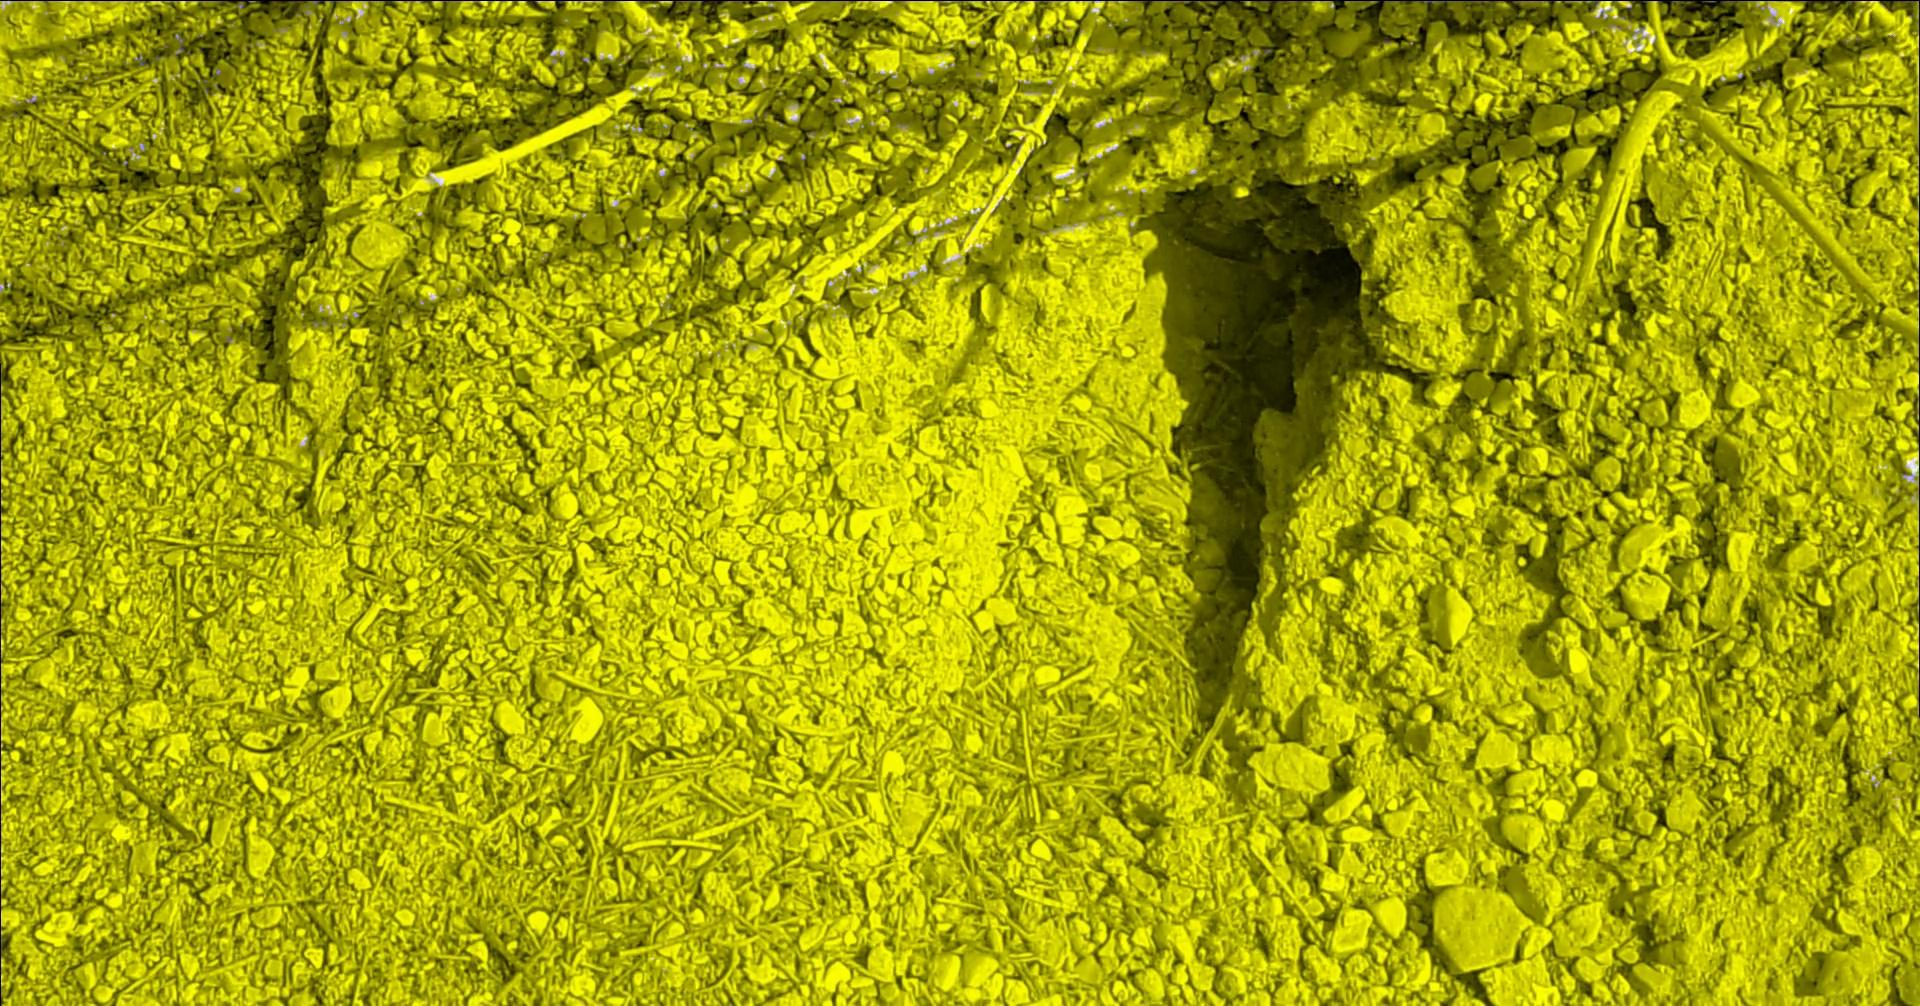ant: (1399, 0, 1451, 3)
